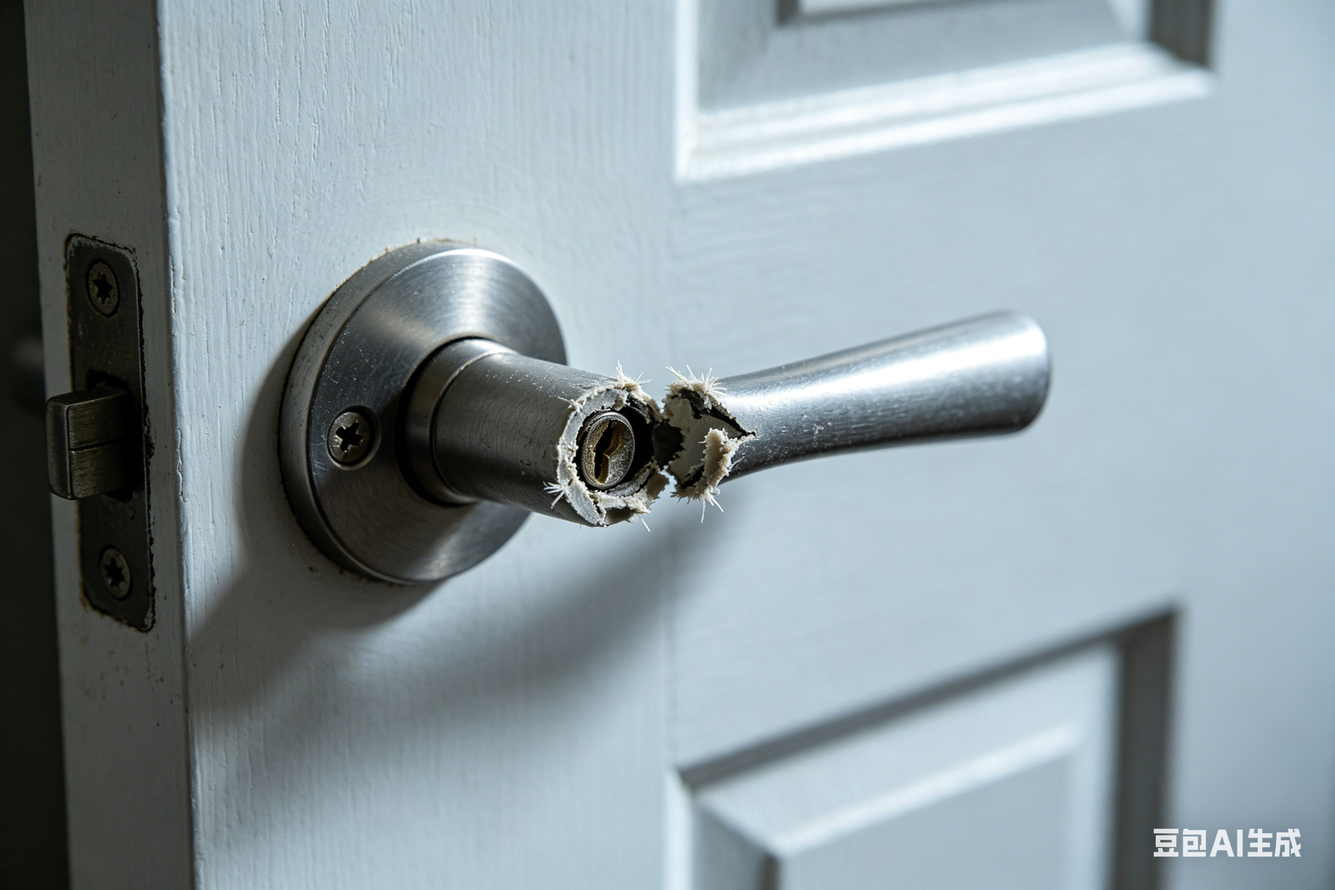BadLock: (532, 363, 779, 524)
